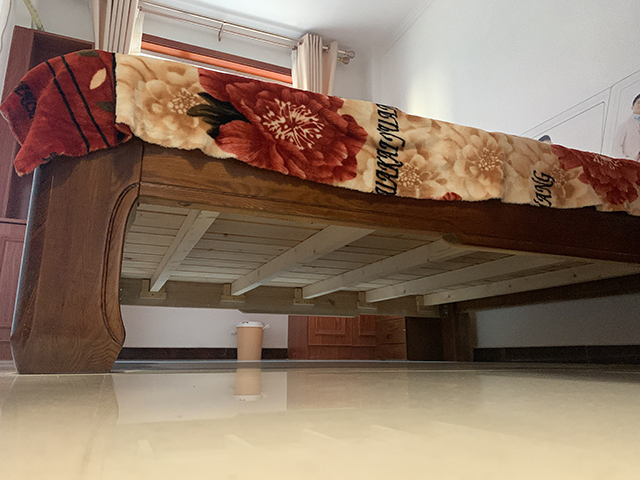bed: (2, 48, 640, 375)
cabinet: (286, 315, 374, 362), (374, 315, 443, 362)
trashcan: (232, 319, 273, 362)
